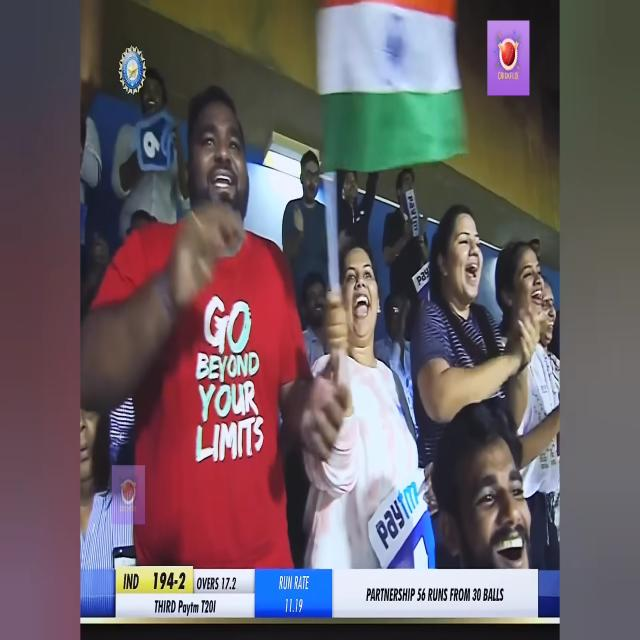fully_visible: (374, 477, 421, 552), (177, 595, 201, 624)
